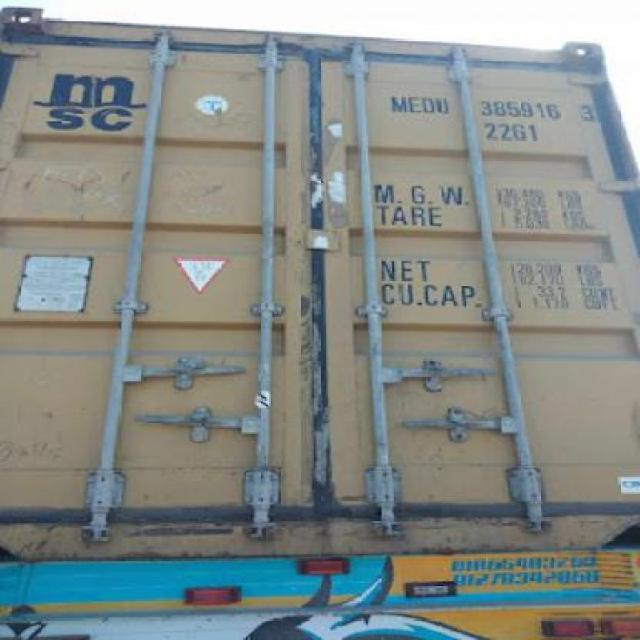ISO: (482, 124, 538, 150)
container_number: (390, 99, 584, 119)
